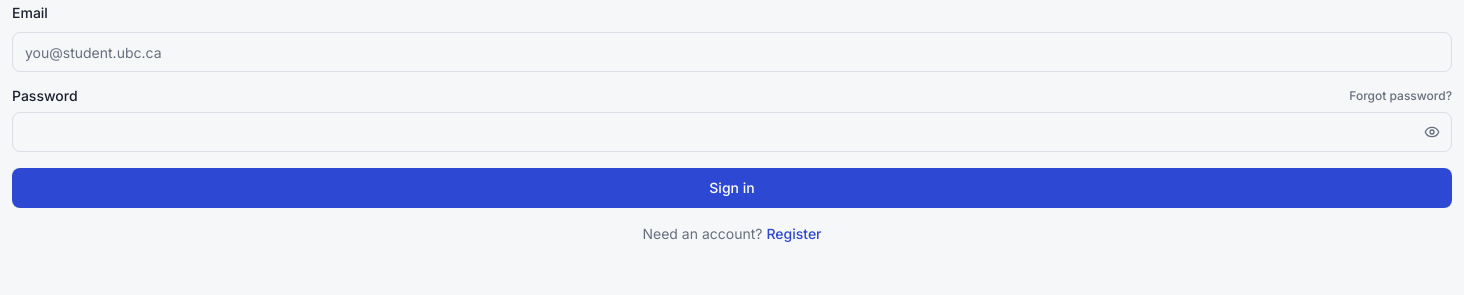
Test: signing in to an unconfirmed account › leaves a wrong password on the form with an error
In the field with placeholder "you@student.ubc.ca": (732, 52) [12,32,1452,72], type "student@ubc.ca"
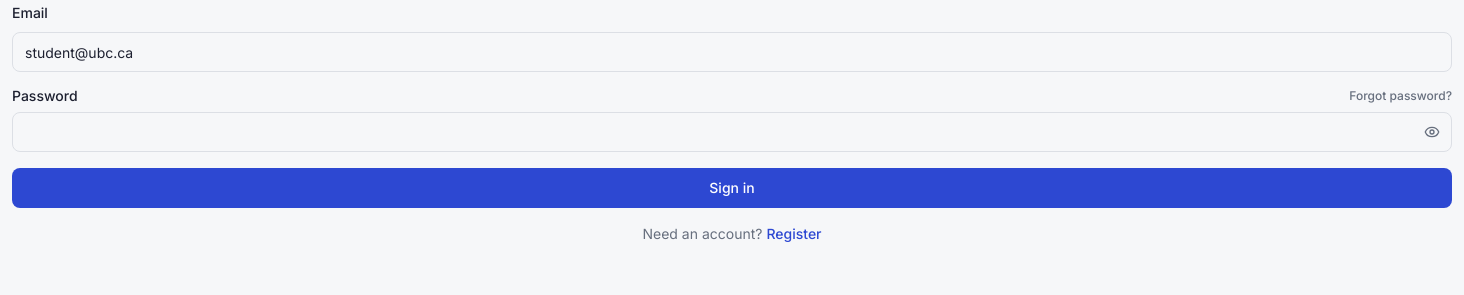
In the password field with id "auth-password": (732, 132) [12,112,1452,152], type "hunter2"
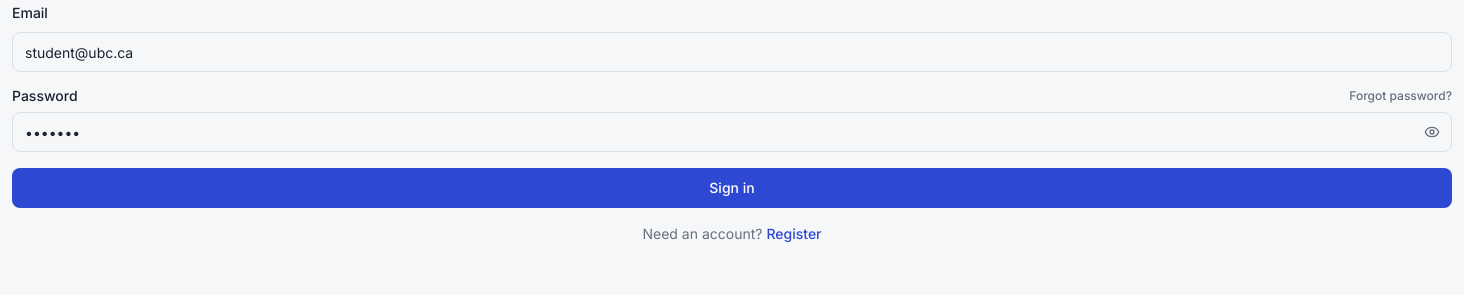
Click the button "Sign in": (732, 188) [12,168,1452,208]
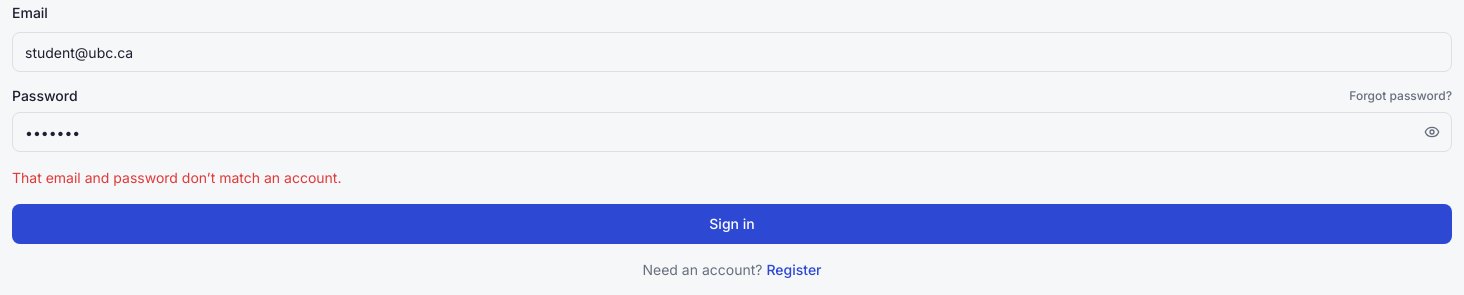
Expected: the message shows "don’t match an account", [12,169,341,186]
